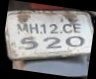character: (65, 34, 84, 48), (42, 36, 62, 49), (16, 22, 28, 34), (28, 22, 39, 34), (48, 23, 59, 34), (62, 22, 72, 33), (72, 22, 82, 33), (40, 22, 47, 34)
